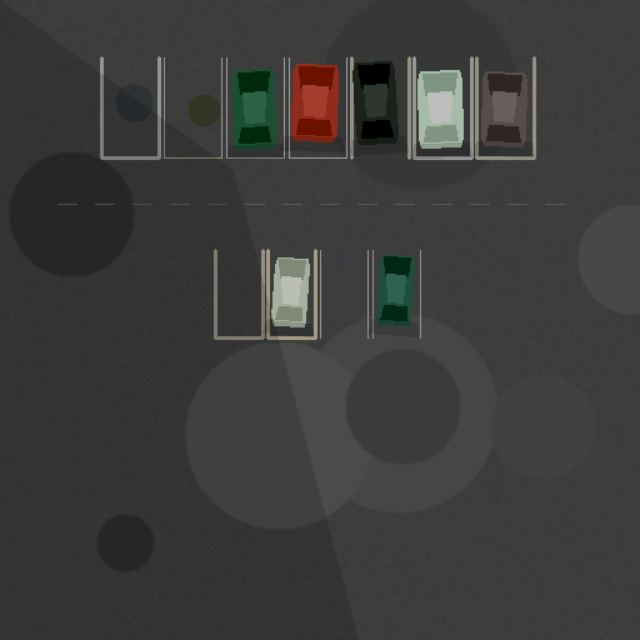space-empty: (101, 58, 159, 158), (164, 58, 221, 158), (215, 250, 263, 337), (320, 250, 367, 337)
space-occupied: (226, 58, 284, 158), (351, 58, 409, 158), (476, 58, 534, 158), (289, 58, 346, 158), (414, 58, 471, 158), (267, 250, 315, 337), (373, 250, 420, 337)
